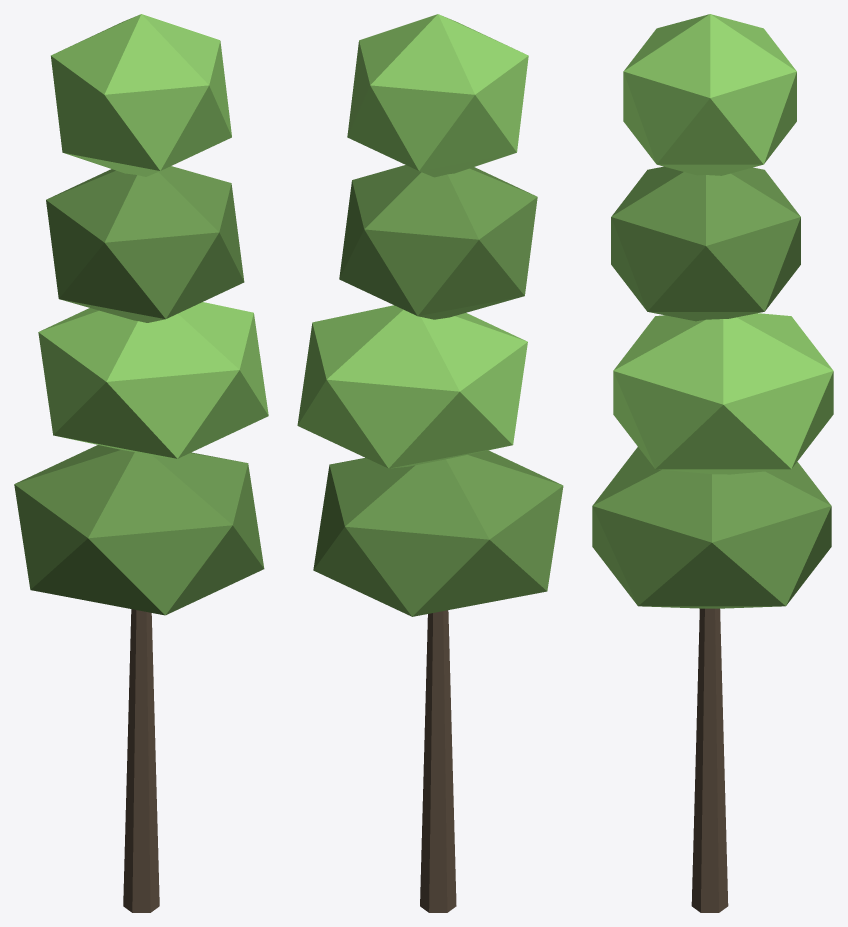
File: columnar-v0-spring.glb
The picture shows the model from 3 angles, left to right: view 1: azimuth 30°, elevation 25°; view 2: azimuth 150°, elevation 25°; view 3: azimuth 270°, elevation 25°; orthographic projection.
Parts seen in each view (by area): view 1: columnar_v0; view 2: columnar_v0; view 3: columnar_v0.
Part boxes in pixels (x1,y1,x2,y2): columnar_v0: [14, 14, 268, 912]; columnar_v0: [297, 14, 563, 912]; columnar_v0: [592, 14, 833, 912].
Size of what is drawn, in the model's own units: 3.48 by 12.93 by 3.17.
